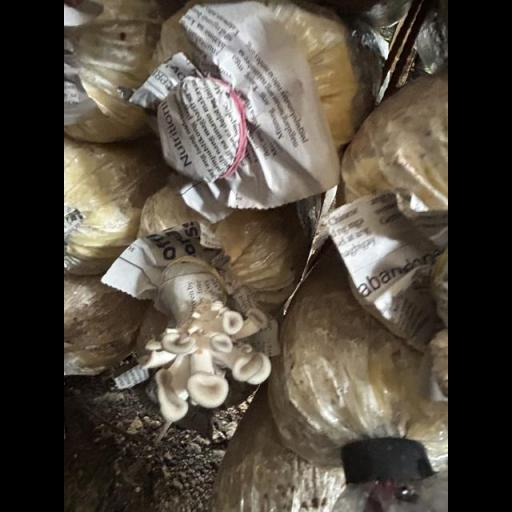White Oyster Mushroom: (124, 293, 280, 433)
